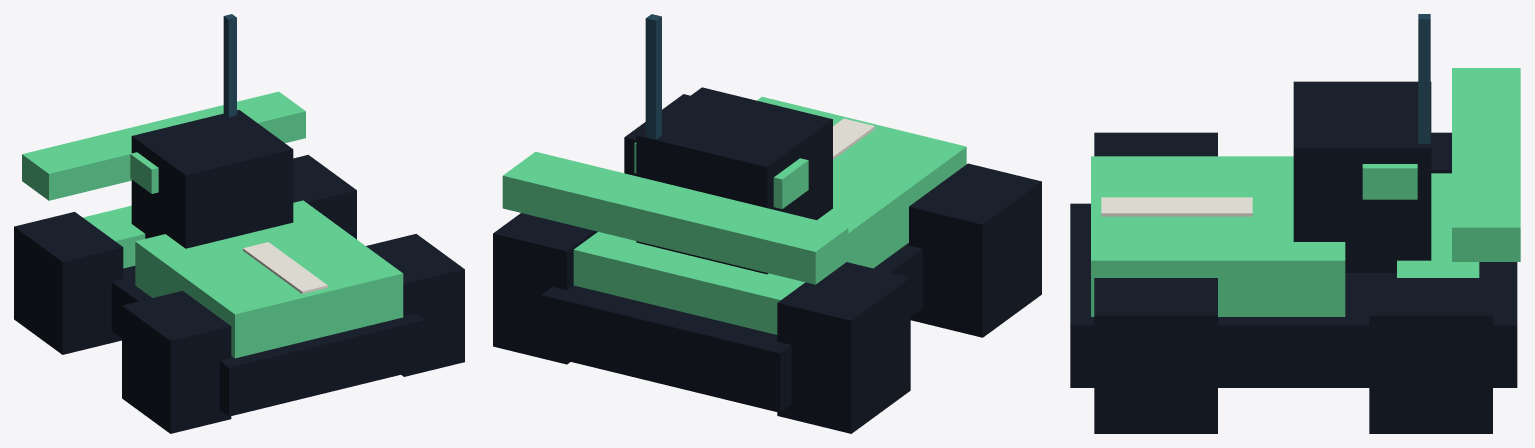
File: kart-5.glb
3 views of the same model, side by side, from view 1: azimuth 30°, elevation 25°; view 2: azimuth 150°, elevation 25°; view 3: azimuth 270°, elevation 25° (orthographic). The views are drawn at different scales.
Parts seen in each view (by area): view 1: track-part-3, track-part-1, track-part-2, track-part-0; view 2: track-part-3, track-part-1, track-part-0, track-part-2; view 3: track-part-3, track-part-1, track-part-2, track-part-0.
Part boxes in pixels (box(x1,y1,x2,y2)): track-part-3: box(14, 110, 464, 433); track-part-1: box(22, 91, 403, 358); track-part-2: box(243, 242, 327, 293); track-part-0: box(223, 14, 236, 117); track-part-3: box(493, 87, 1041, 433); track-part-1: box(502, 96, 966, 334); track-part-0: box(645, 14, 661, 139); track-part-2: box(833, 118, 874, 159); track-part-3: box(1070, 81, 1517, 433); track-part-1: box(1091, 68, 1520, 316); track-part-2: box(1101, 197, 1252, 216); track-part-0: box(1418, 14, 1430, 143).
Bounding box in the file's own units: 0.63 × 0.565 × 0.655.
